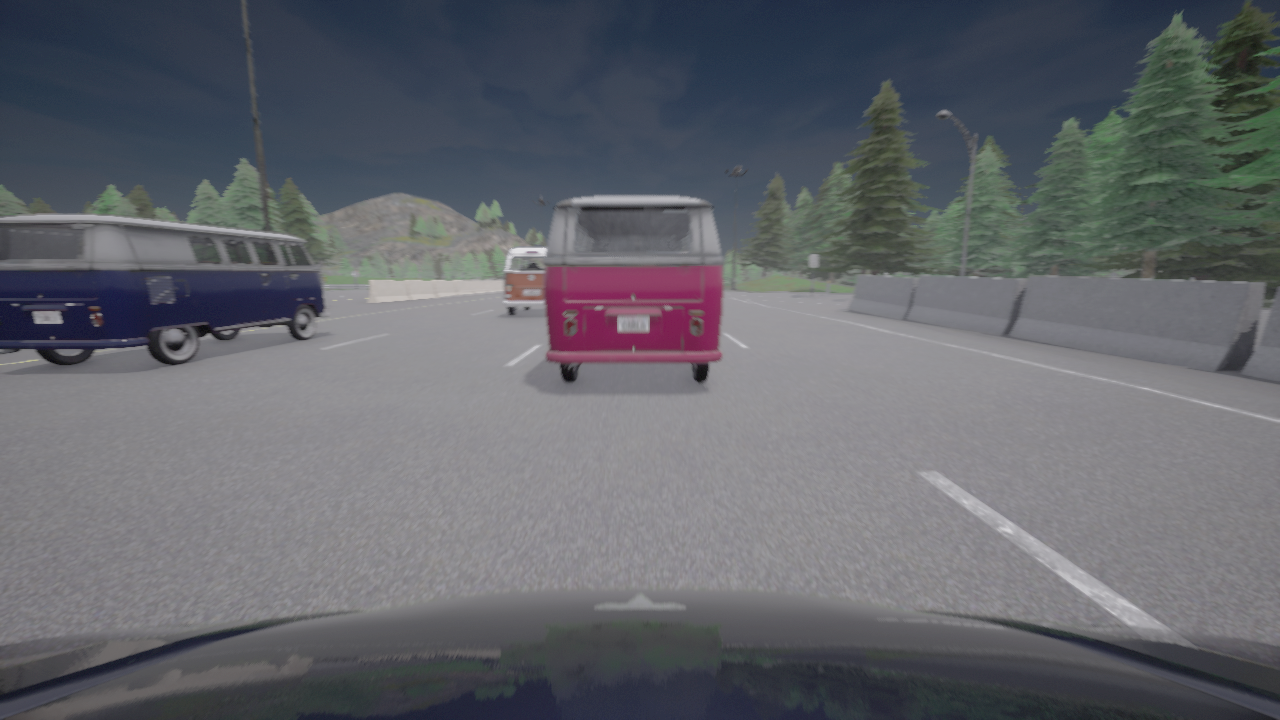cyclist: (0, 588, 1279, 719), (0, 214, 328, 365), (543, 196, 723, 382), (502, 247, 546, 315)
